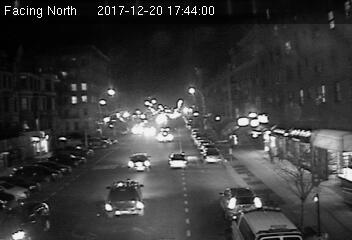car: (105, 177, 146, 216), (219, 186, 264, 216), (127, 153, 152, 171), (167, 152, 188, 167), (201, 148, 222, 163), (157, 127, 175, 143)
police: (224, 203, 306, 240)
